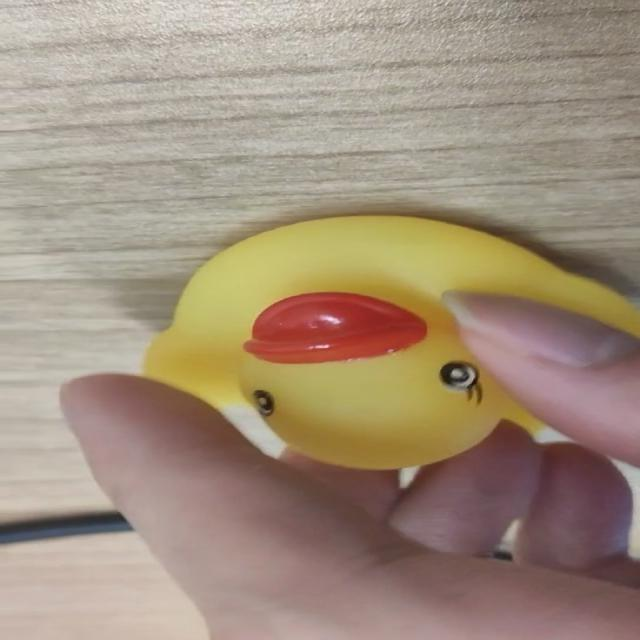rubber-duck: (143, 215, 638, 467)
